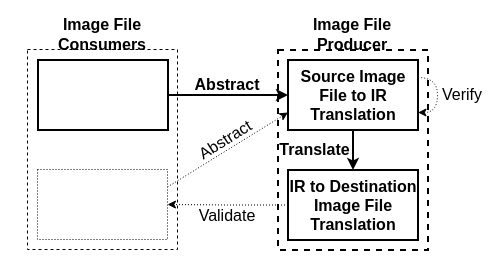
The diagram is 504 pixels wide and 268 high, and some of its shapes have lost their labels. The shapes that lost their labels are listed below. From the top down, each one's centre as x and y in pixels, then its label:
[102,94]: Source Image File Parser
[102,204]: Destination Image File Parser
